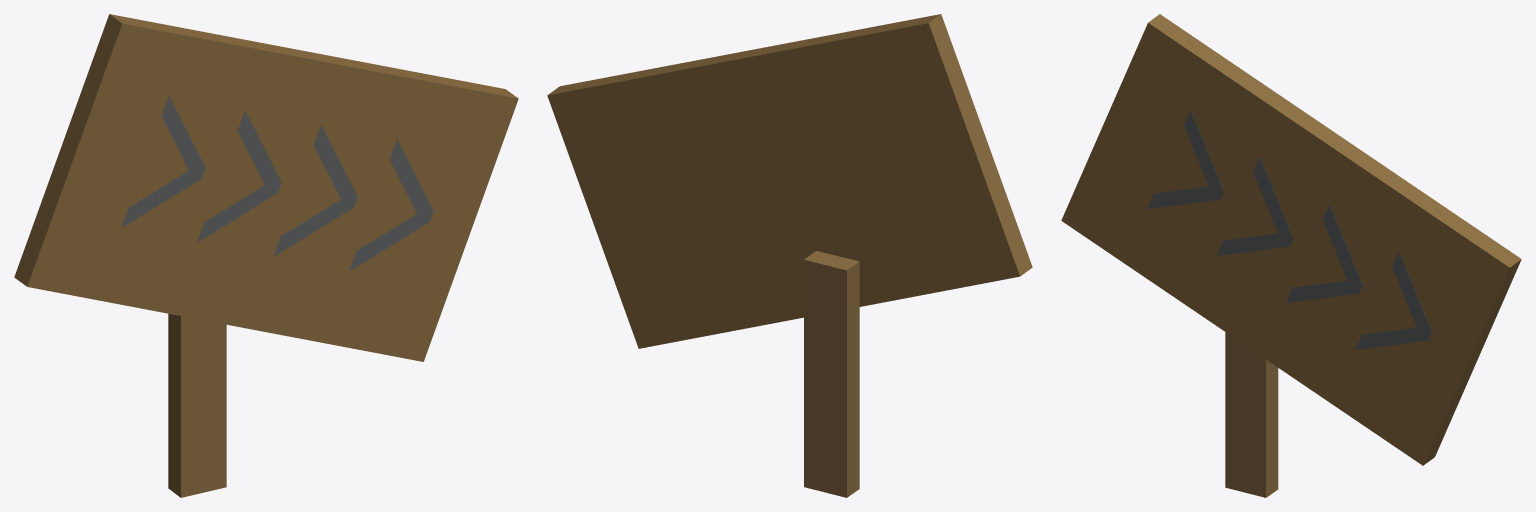
The model's file is Bodacious Trug-Kup (1).glb.
3 views of the same model, side by side, from view 1: azimuth 30°, elevation 25°; view 2: azimuth 150°, elevation 25°; view 3: azimuth 330°, elevation 25° (orthographic). The views are drawn at different scales.
Parts seen in each view (by area): view 1: Mesh_Mesh_head_geo.001_lambert2SG.001; view 2: Mesh_Mesh_head_geo.001_lambert2SG.001; view 3: Mesh_Mesh_head_geo.001_lambert2SG.001.
Part boxes in pixels (<box>): Mesh_Mesh_head_geo.001_lambert2SG.001: <box>14,14,518,497</box>; Mesh_Mesh_head_geo.001_lambert2SG.001: <box>547,14,1032,497</box>; Mesh_Mesh_head_geo.001_lambert2SG.001: <box>1061,14,1521,497</box>.
Size of the model in its own units: 0.0218 by 0.0212 by 0.00201.
